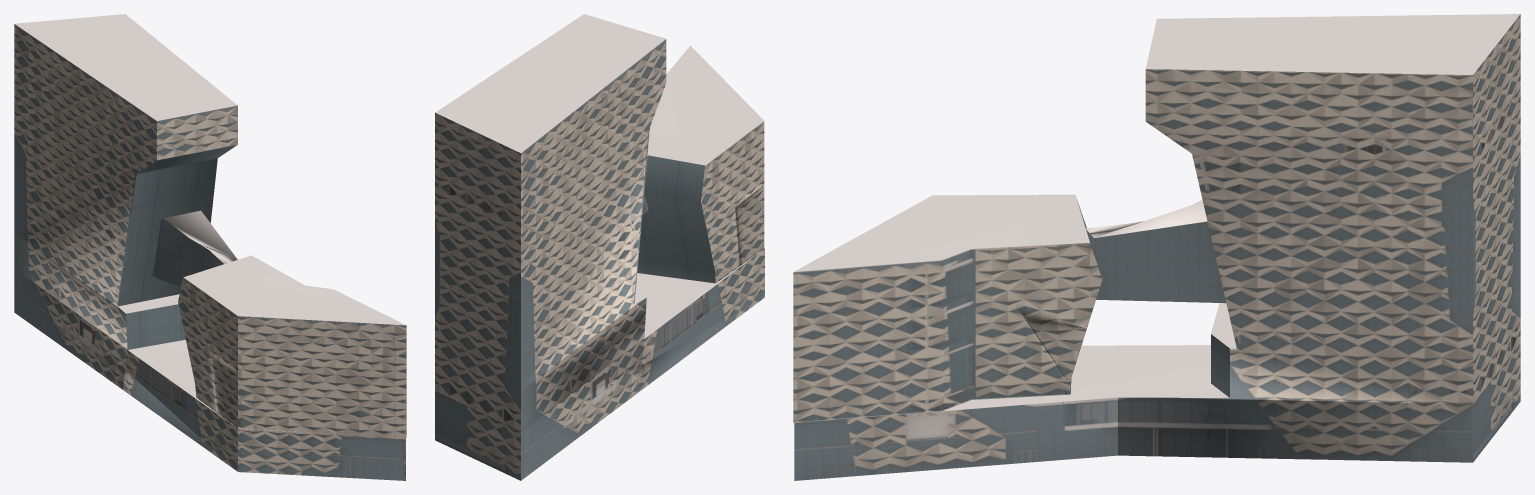
3 renders of one model, left to right at view 1: azimuth 30°, elevation 25°; view 2: azimuth 150°, elevation 25°; view 3: azimuth 270°, elevation 25°, orthographic. The views are drawn at different scales.
Visible parts, largest first — view 1: 111A.COPY; view 2: 111A.COPY; view 3: 111A.COPY.
Boxes of the visible parts, left/top/right/bottom form: 111A.COPY: left=14, top=14, right=406, bottom=480; 111A.COPY: left=435, top=14, right=764, bottom=480; 111A.COPY: left=793, top=14, right=1520, bottom=480.
Bounding box in the file's own units: 34.68 × 78.76 × 134.
Materials: 1 (1 with a texture image).
